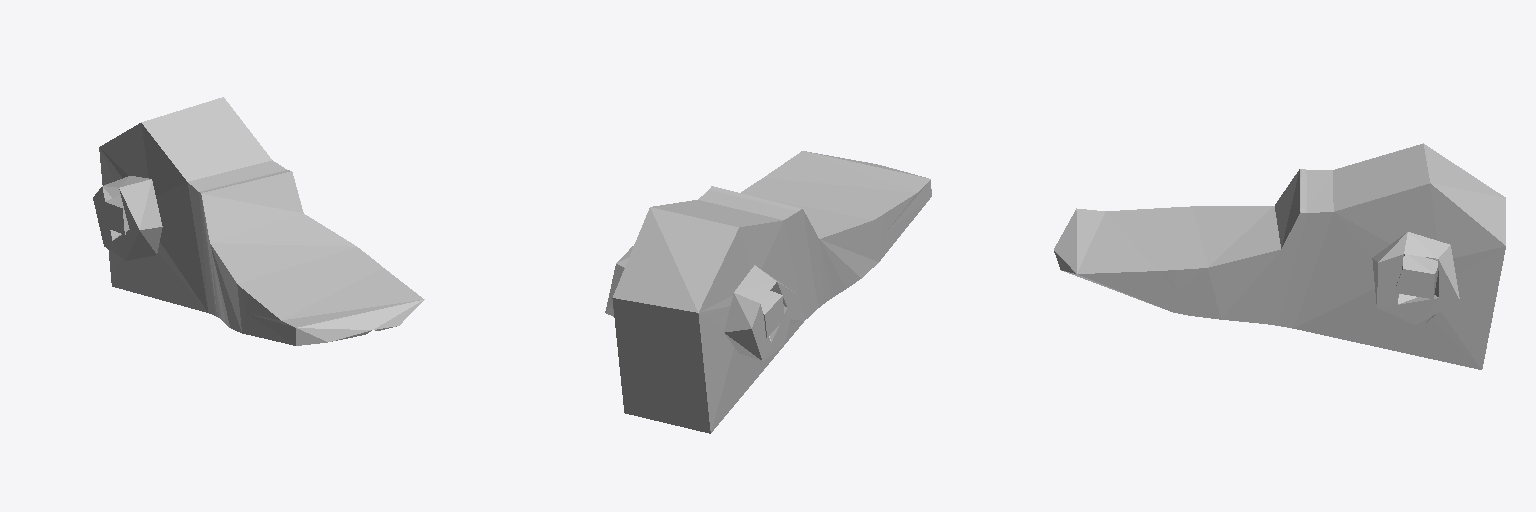
File: right_collision_thumb_dp_mesh_mesh.obj
3 views of the same model, side by side, from view 1: azimuth 30°, elevation 25°; view 2: azimuth 150°, elevation 25°; view 3: azimuth 270°, elevation 25° (orthographic).
Size of the model in its own units: 0.015 by 0.0181 by 0.0397.